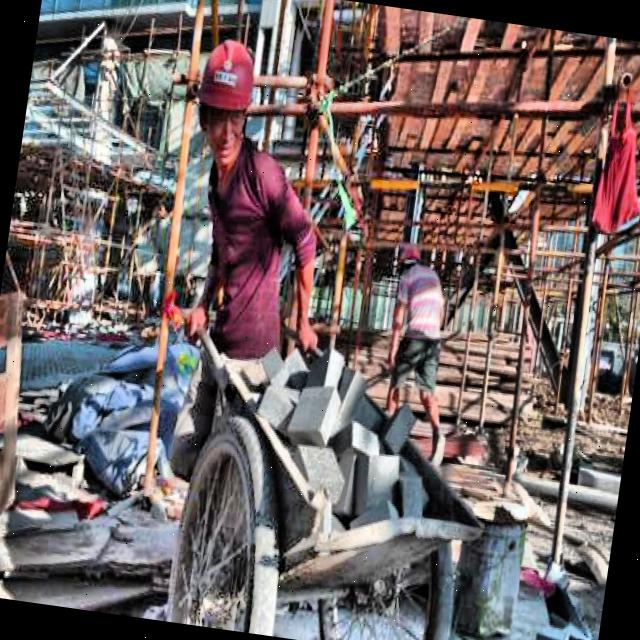helmet: (187, 33, 270, 168), (393, 233, 429, 283)
